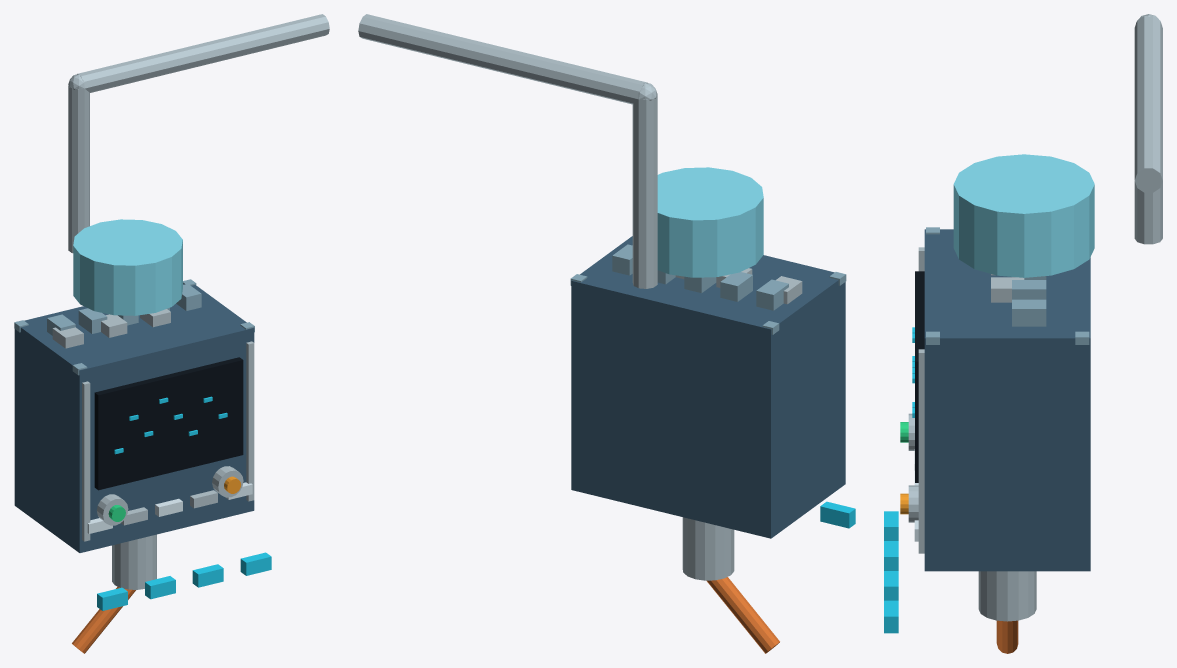
File: 21_L72_PurgeMassFlowTransmitter.fbx
3 renders of one model, left to right at view 1: azimuth 30°, elevation 25°; view 2: azimuth 150°, elevation 25°; view 3: azimuth 270°, elevation 25°, orthographic. The views are drawn at different scales.
Visible parts, largest first — view 1: PurgeMassFlowTransmitter; view 2: PurgeMassFlowTransmitter; view 3: PurgeMassFlowTransmitter.
Boxes of the visible parts, x1=… form: PurgeMassFlowTransmitter: x1=14, y1=14, x2=329, y2=653; PurgeMassFlowTransmitter: x1=358, y1=14, x2=855, y2=653; PurgeMassFlowTransmitter: x1=884, y1=14, x2=1162, y2=653.
Bounding box in the file's own units: 118 × 178 × 67.15.
